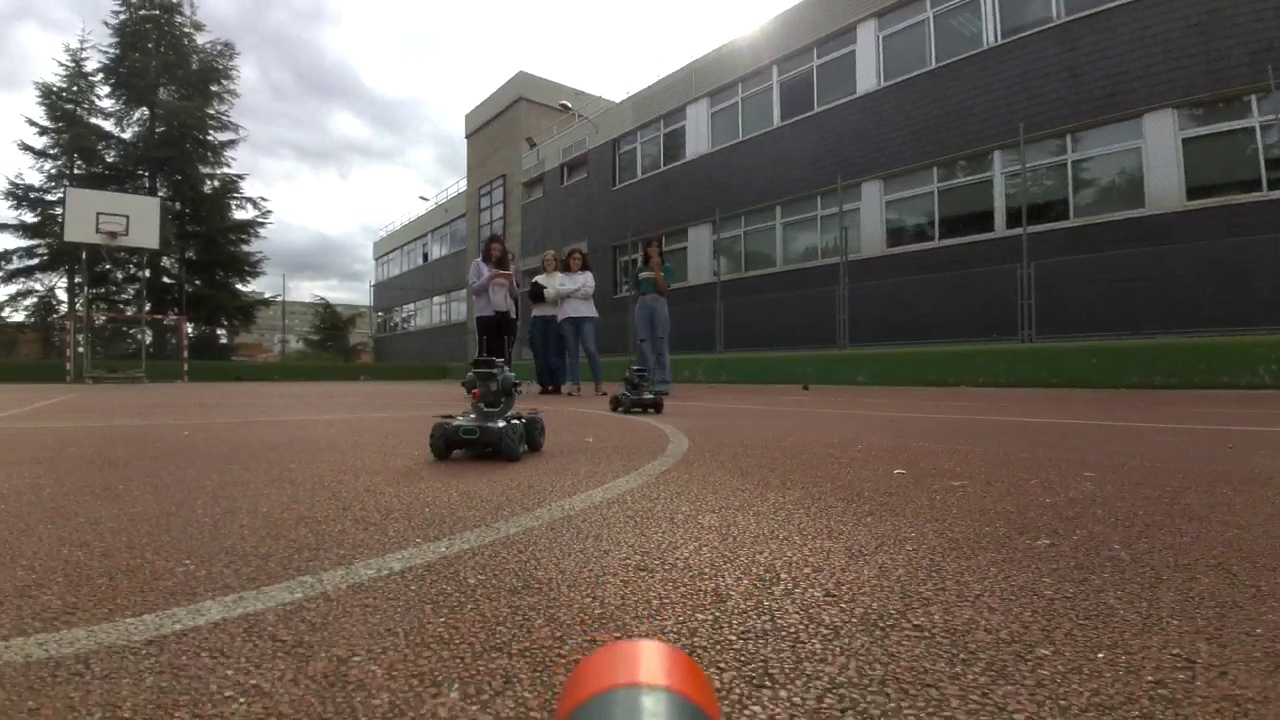robot: (431, 361, 546, 463), (610, 367, 663, 414)
